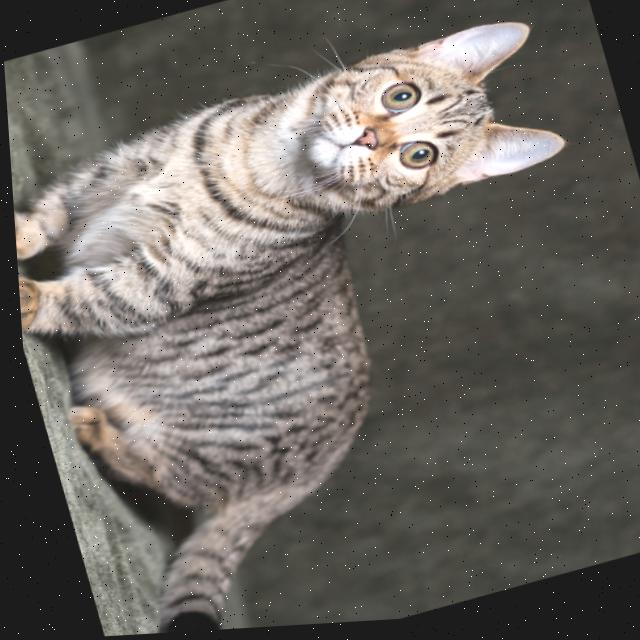Munchkin: (2, 6, 640, 640)
